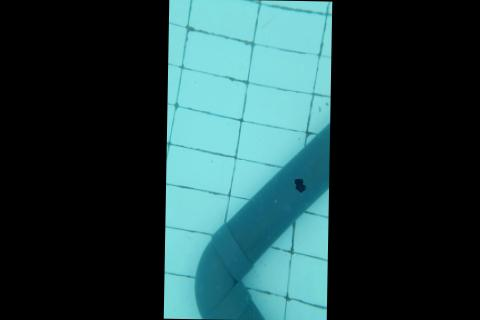kebocoran: (291, 176, 307, 195)
